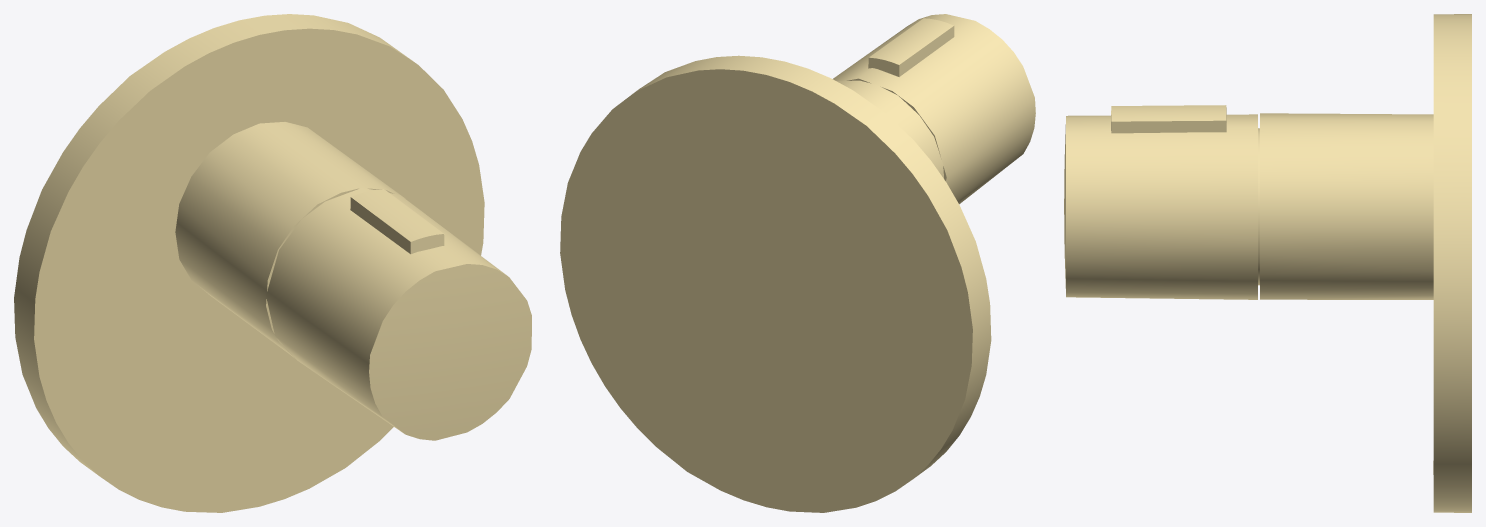
3 views of the same model, side by side, from view 1: azimuth 30°, elevation 25°; view 2: azimuth 150°, elevation 25°; view 3: azimuth 270°, elevation 25° (orthographic). The views are drawn at different scales.
Parts seen in each view (by area): view 1: L_001d4e90_b90e_49b1_b53e_22cdabfa5212_I1, L_a95225d1_f35d_44fa_8cc6_a15221495ef3_I4, L_a77d6a40_d3d5_4eb9_abf4_3b8f9d93f960_I3, L_50a2261a_14d6_4da1_98d8_0f7c1b97794b_I2; view 2: L_001d4e90_b90e_49b1_b53e_22cdabfa5212_I1, L_a95225d1_f35d_44fa_8cc6_a15221495ef3_I4, L_50a2261a_14d6_4da1_98d8_0f7c1b97794b_I2, L_a77d6a40_d3d5_4eb9_abf4_3b8f9d93f960_I3; view 3: L_a95225d1_f35d_44fa_8cc6_a15221495ef3_I4, L_a77d6a40_d3d5_4eb9_abf4_3b8f9d93f960_I3, L_001d4e90_b90e_49b1_b53e_22cdabfa5212_I1, L_50a2261a_14d6_4da1_98d8_0f7c1b97794b_I2.
Part boxes in pixels (bbox=[...]): L_001d4e90_b90e_49b1_b53e_22cdabfa5212_I1: bbox=[14, 14, 484, 512]; L_a95225d1_f35d_44fa_8cc6_a15221495ef3_I4: bbox=[266, 188, 531, 440]; L_a77d6a40_d3d5_4eb9_abf4_3b8f9d93f960_I3: bbox=[175, 122, 407, 358]; L_50a2261a_14d6_4da1_98d8_0f7c1b97794b_I2: bbox=[350, 189, 444, 254]; L_001d4e90_b90e_49b1_b53e_22cdabfa5212_I1: bbox=[560, 55, 991, 512]; L_a95225d1_f35d_44fa_8cc6_a15221495ef3_I4: bbox=[833, 14, 1035, 204]; L_50a2261a_14d6_4da1_98d8_0f7c1b97794b_I2: bbox=[868, 18, 954, 76]; L_a77d6a40_d3d5_4eb9_abf4_3b8f9d93f960_I3: bbox=[837, 80, 943, 178]; L_a95225d1_f35d_44fa_8cc6_a15221495ef3_I4: bbox=[1064, 114, 1257, 299]; L_a77d6a40_d3d5_4eb9_abf4_3b8f9d93f960_I3: bbox=[1260, 113, 1433, 299]; L_001d4e90_b90e_49b1_b53e_22cdabfa5212_I1: bbox=[1433, 14, 1471, 512]; L_50a2261a_14d6_4da1_98d8_0f7c1b97794b_I2: bbox=[1111, 105, 1226, 133].
Size of the model in its own units: 0.1234 by 0.1235 by 0.101.
